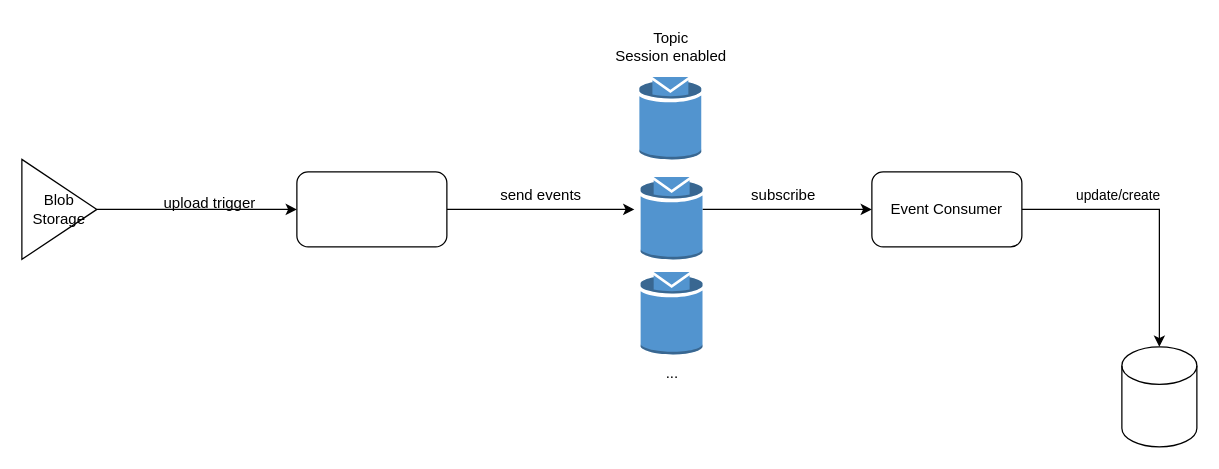
This 1219x469 diagram has some shape labels left out. The centre of each missing label's shape, as x and y in pixels:
Blob Importer: (x=371, y=209)
MongoDB: (x=1159, y=396)
